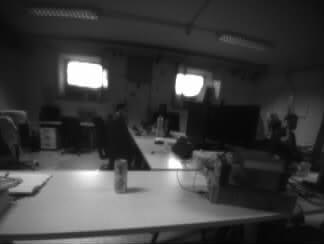Tin can: (114, 159, 127, 194)
